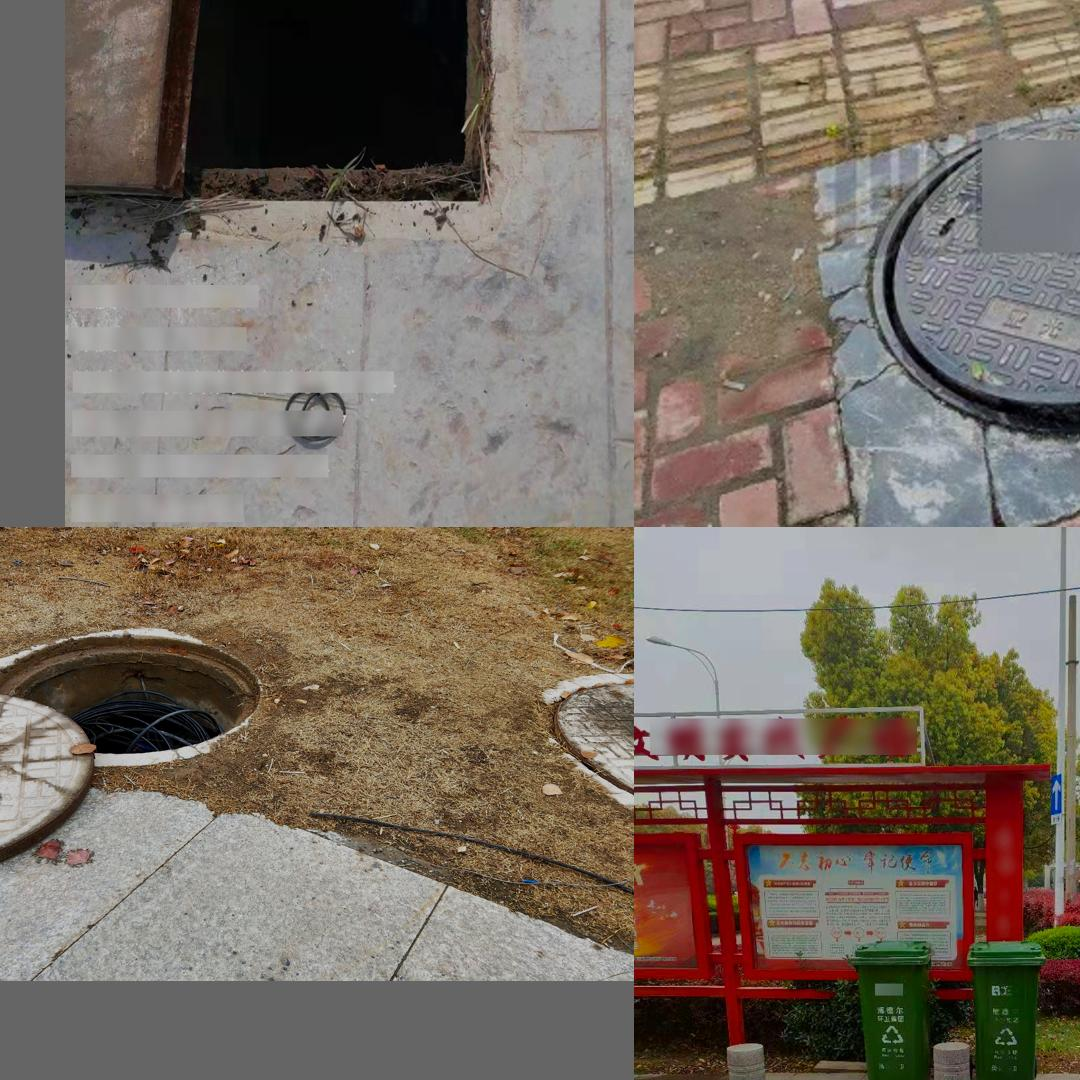uncovered: (69, 0, 487, 204), (871, 108, 1080, 436), (0, 629, 258, 886)
